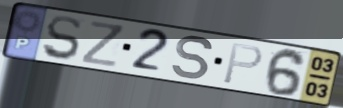2: (127, 27, 174, 78)
6: (263, 46, 309, 98)
P: (220, 41, 265, 86)
S: (171, 34, 216, 82), (40, 14, 83, 62)
Z: (80, 19, 127, 70)
